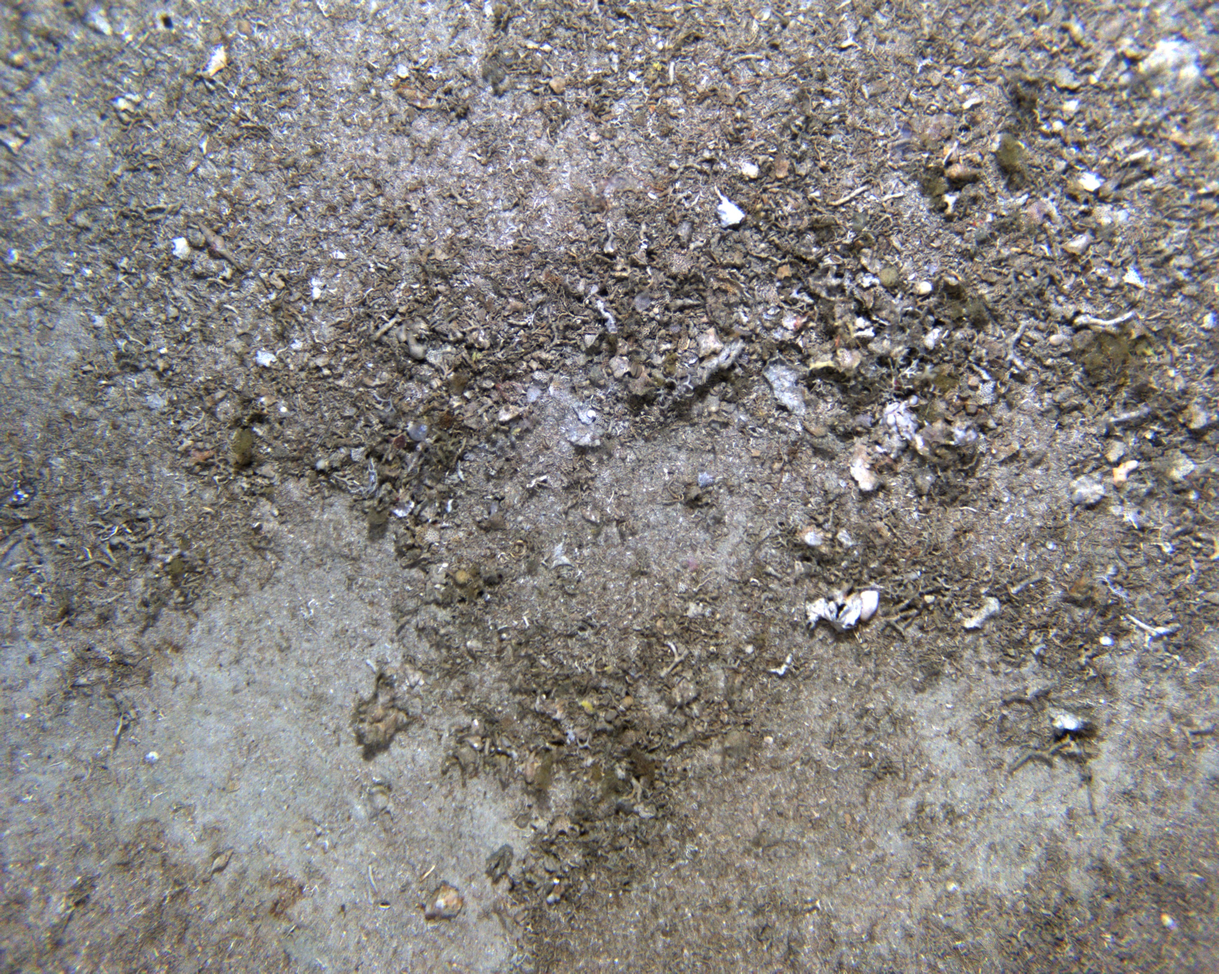Brachionichthyidae: (518, 742, 548, 784)
